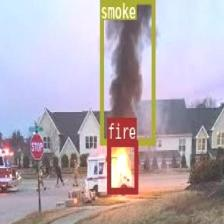fire: (107, 139, 137, 192)
smoke: (100, 0, 154, 143)
